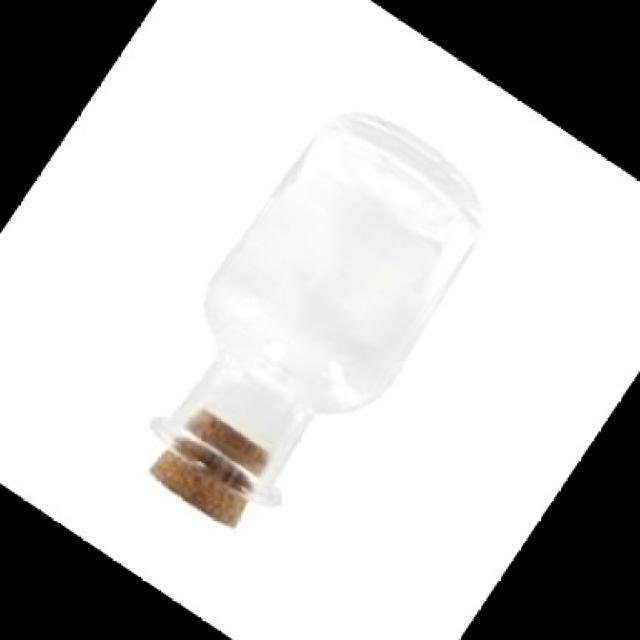Glass: (146, 104, 484, 530)
